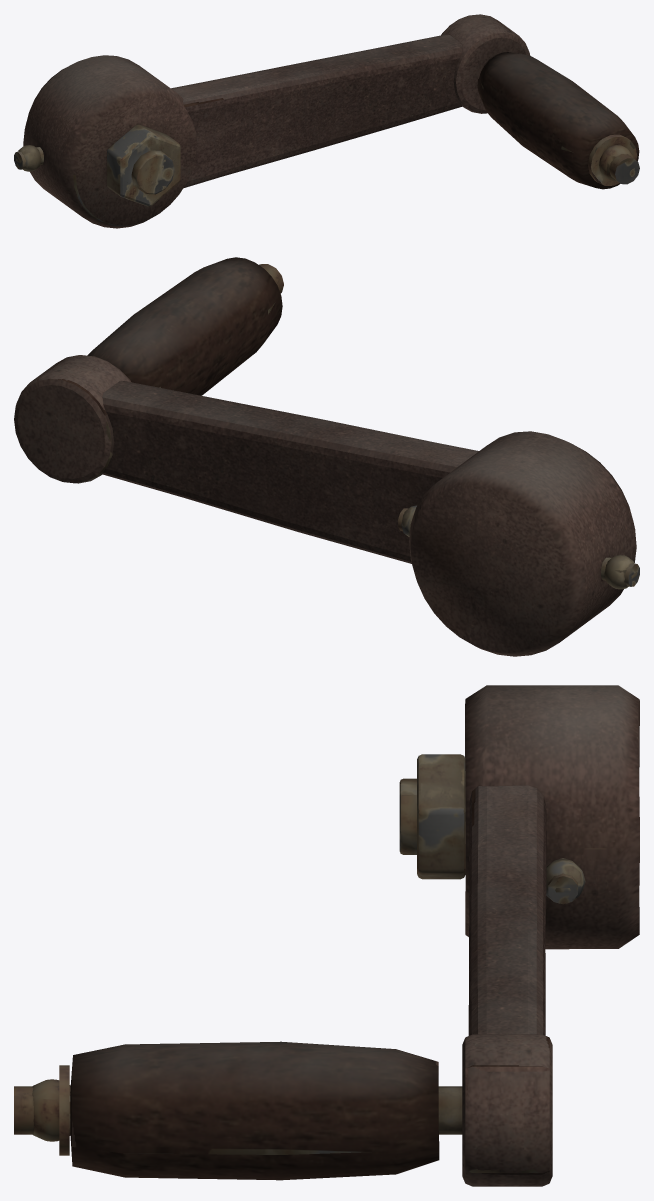
Rendered from EmergencyCrank_Handle.fbx.
3 views of the same model, one above another, from view 1: azimuth 30°, elevation 25°; view 2: azimuth 150°, elevation 25°; view 3: azimuth 270°, elevation 25° (orthographic). The views are drawn at different scales.
Visible parts, largest first — view 1: EmergencyCrank_Handle_Mesh; view 2: EmergencyCrank_Handle_Mesh; view 3: EmergencyCrank_Handle_Mesh.
Part boxes in pixels (x1,y1,x2,y2): EmergencyCrank_Handle_Mesh: [14, 14, 639, 228]; EmergencyCrank_Handle_Mesh: [14, 257, 639, 656]; EmergencyCrank_Handle_Mesh: [14, 685, 639, 1186].
Bounding box in the file's own units: 0.2722 × 0.0761 × 0.1801.
